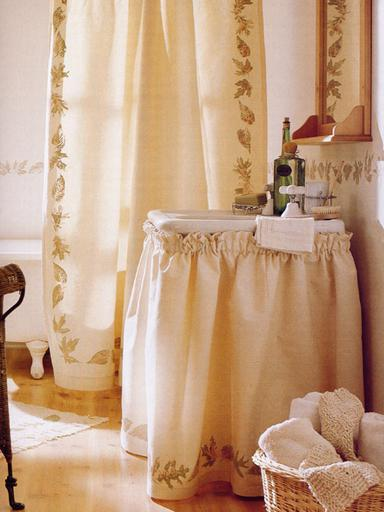Lavamanos: (132, 179, 370, 500)
